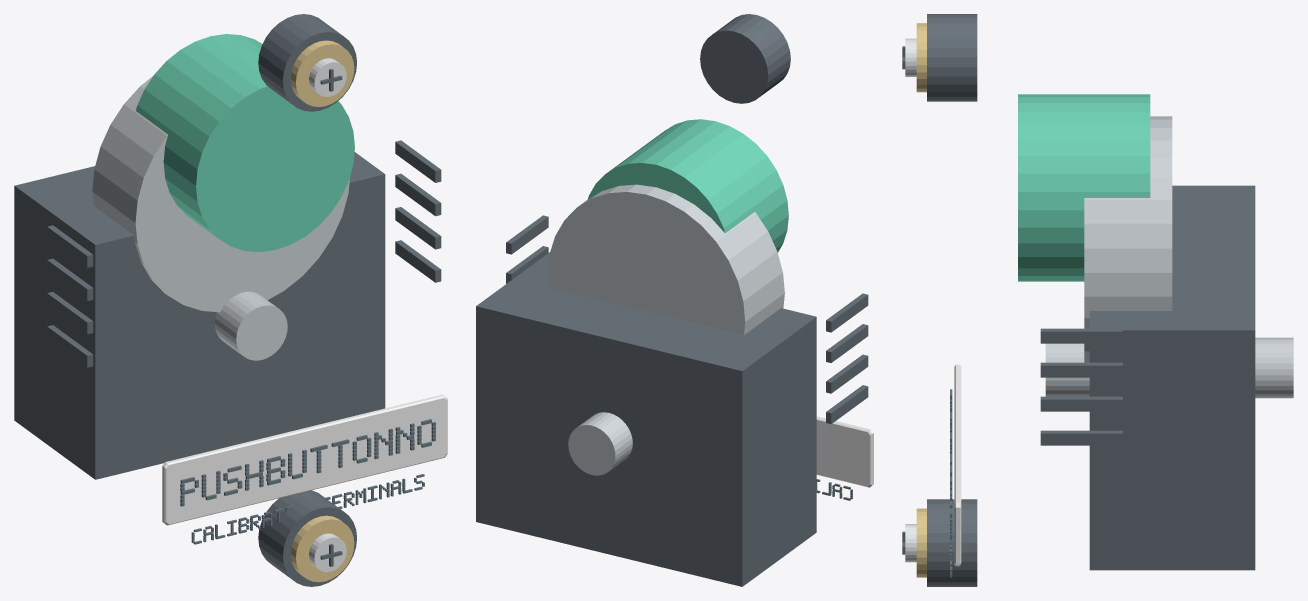
File: pushButtonNO.glb
3 views of the same model, side by side, from view 1: azimuth 30°, elevation 25°; view 2: azimuth 150°, elevation 25°; view 3: azimuth 270°, elevation 25° (orthographic). The views are drawn at different scales.
Parts seen in each view (by area): view 1: pushButtonNO-detailed; view 2: pushButtonNO-detailed; view 3: pushButtonNO-detailed.
Part boxes in pixels (x1,y1,x2,y2): pushButtonNO-detailed: (14,14,447,586); pushButtonNO-detailed: (476,14,873,586); pushButtonNO-detailed: (902,14,1293,586).
Bounding box in the file's own units: 1.49 × 2.23 × 1.4.
